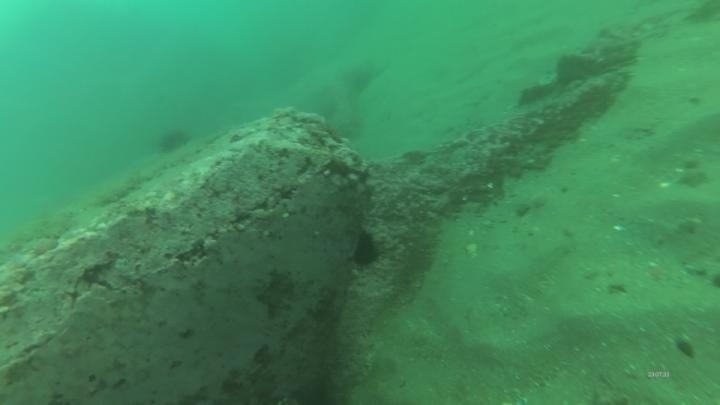echinus: (348, 229, 382, 270), (155, 125, 192, 156)
